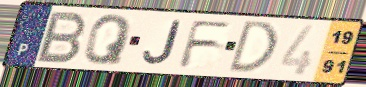4: (277, 23, 315, 78)
B: (33, 10, 90, 65)
D: (225, 19, 280, 74)
F: (176, 19, 236, 70)
J: (141, 19, 184, 67)
Q: (81, 13, 134, 67)
